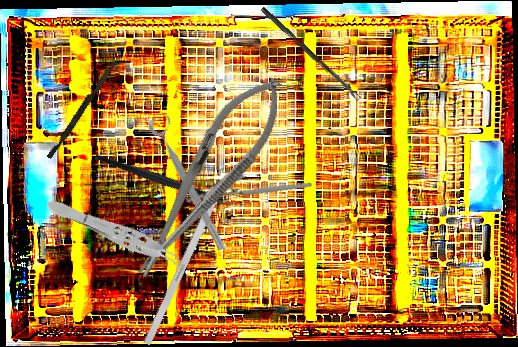Chopper: (93, 107, 253, 253)
Fixation Ring: (146, 111, 237, 253)
Hook Surgical: (142, 163, 235, 346)
Needle Holder: (115, 63, 301, 291), (184, 157, 313, 229)
Pusher: (46, 53, 121, 161)
Surgical Spoon: (259, 6, 362, 102)
Tissue Forceps: (42, 192, 193, 278)
